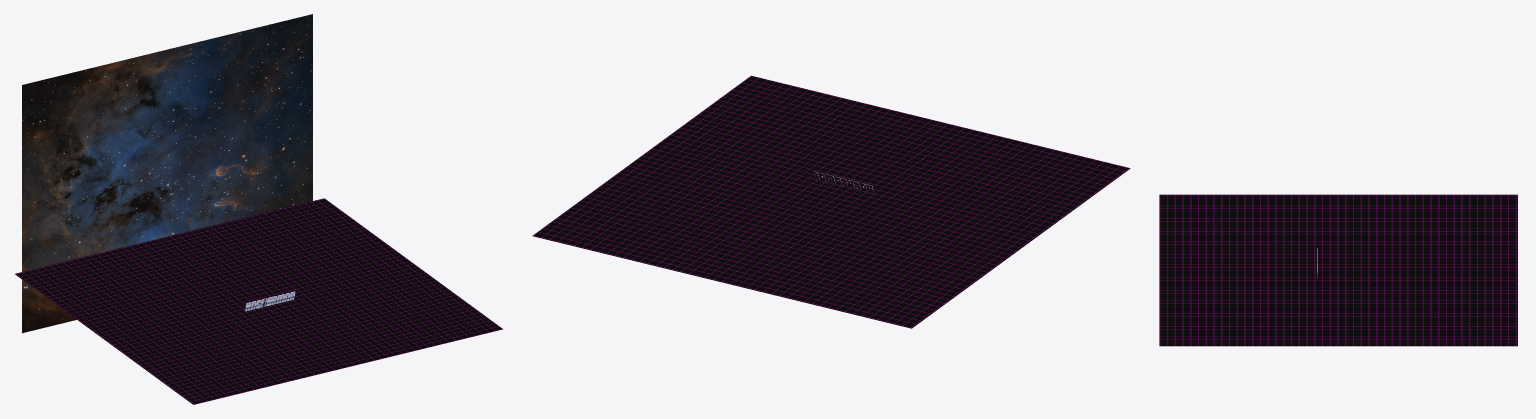
The model's file is hackerman.glb.
The picture shows the model from 3 angles, left to right: view 1: azimuth 30°, elevation 25°; view 2: azimuth 150°, elevation 25°; view 3: azimuth 270°, elevation 25°; orthographic projection. The views are drawn at different scales.
Visible parts, largest first — view 1: Plane.001, Floor; view 2: Floor; view 3: Floor.
Boxes of the visible parts, x1,y1,x2,y2 form: Plane.001: (22, 14, 312, 333); Floor: (15, 198, 502, 404); Floor: (532, 75, 1130, 328); Floor: (1159, 194, 1517, 346).
Size of the model in its own units: 35.42 by 27.1 by 35.81.
5 materials, 5 textured.
